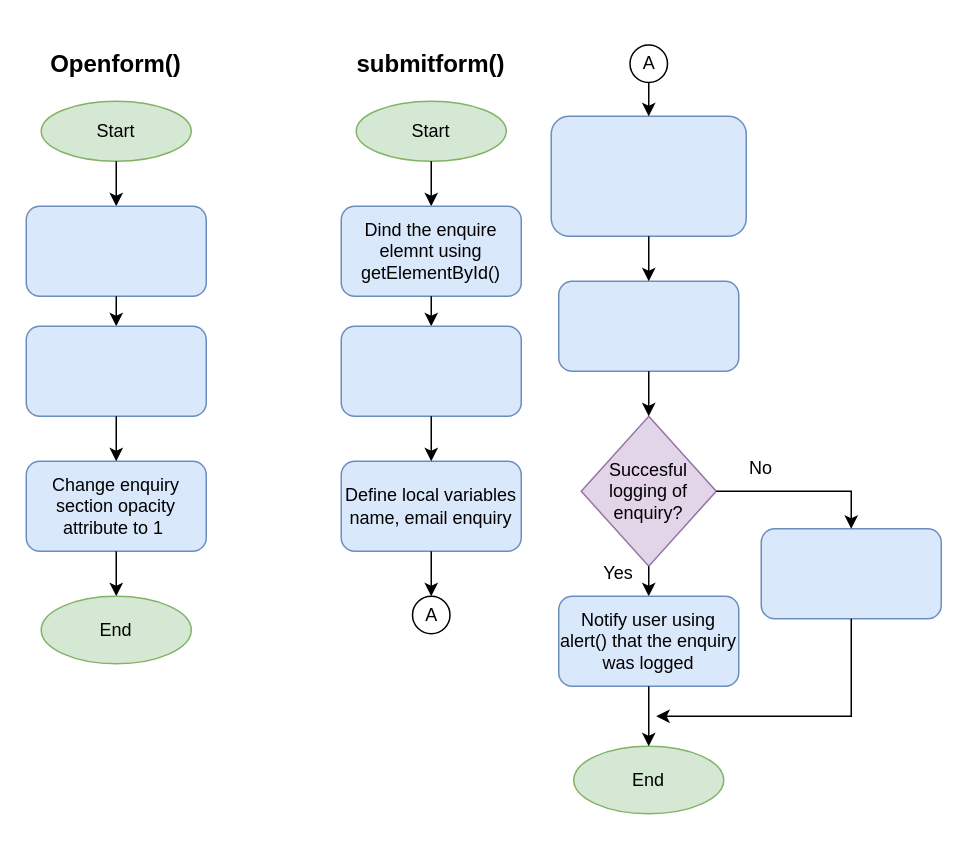
The diagram is 968 pixels wide and 852 high, and some of its shapes have lost their labels. Here are the shapes that lost their labels. From the top down, the centre of each, then its label:
At (x=648, y=175): "Initialise local varibales with the form data by accessing the info constant".
At (x=115, y=250): "Adjust Enquiry section display type to block".
At (x=648, y=325): "Call the imported emailjs.send() mehod with the required parameters".
At (x=115, y=370): "Change all elements opacity attribute to 0.1".
At (x=430, y=370): "Store result of getElementById in constant info".
At (x=850, y=573): "Notify user using alert() that the enquiry was not logged".
